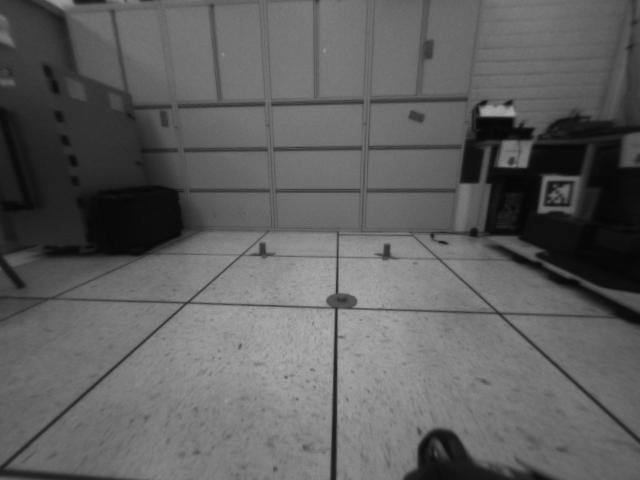X: (250, 240, 276, 260), (374, 243, 400, 262)
